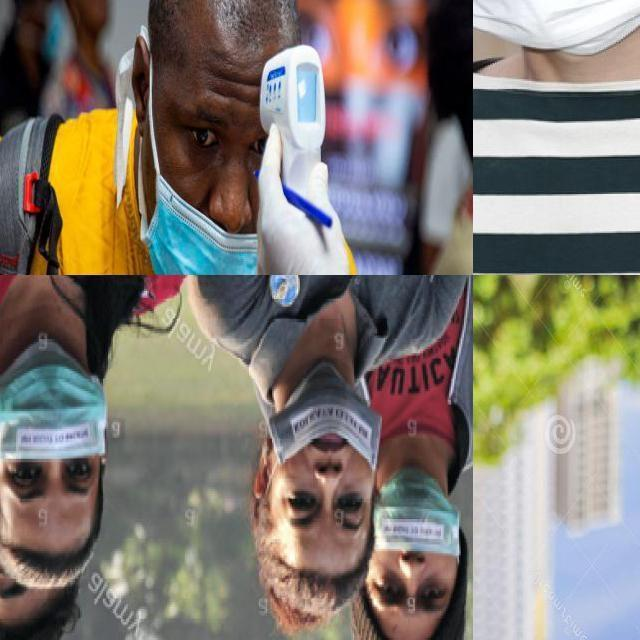hairnet: (142, 178, 274, 274), (274, 363, 367, 482), (369, 466, 458, 570)
